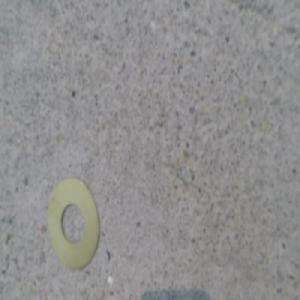Washer: (47, 179, 99, 269)
